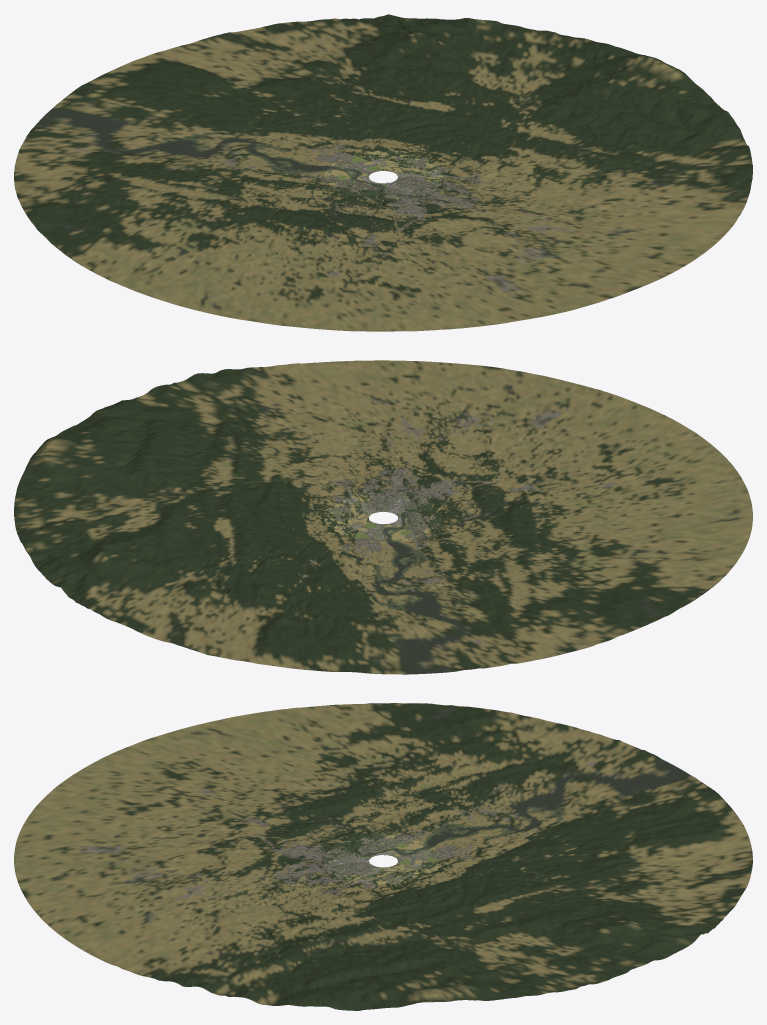
Rendered from york_park_backdrop_part1.glb.
3 views of the same model, one above another, from view 1: azimuth 30°, elevation 25°; view 2: azimuth 150°, elevation 25°; view 3: azimuth 270°, elevation 25° (orthographic).
Parts seen in each view (by area): view 1: land, far_land, suburbs; view 2: land, far_land, suburbs; view 3: land, far_land, suburbs.
Part boxes in pixels (left/top/right/bottom): land: left=14, top=14, right=752, bottom=331; far_land: left=324, top=150, right=442, bottom=201; suburbs: left=325, top=155, right=441, bottom=198; land: left=14, top=360, right=752, bottom=674; far_land: left=324, top=492, right=442, bottom=542; suburbs: left=326, top=492, right=435, bottom=542; land: left=14, top=703, right=752, bottom=1010; far_land: left=324, top=833, right=442, bottom=885; suburbs: left=325, top=834, right=441, bottom=884.
Size of the model in its own units: 50000 by 1365 by 50000.
Materials: 1 (1 with a texture image).
